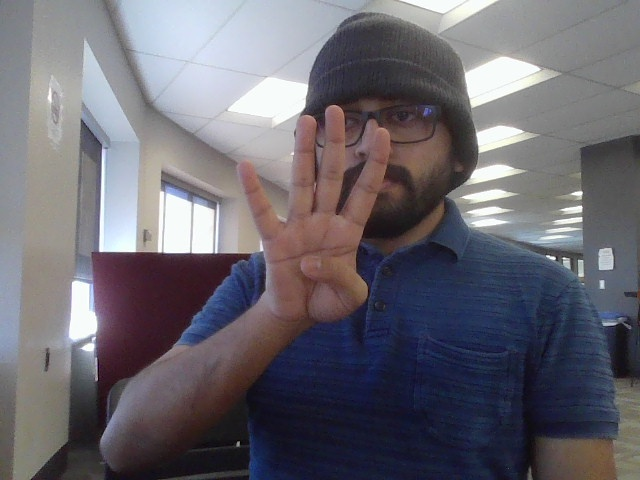start: (232, 103, 399, 331)
